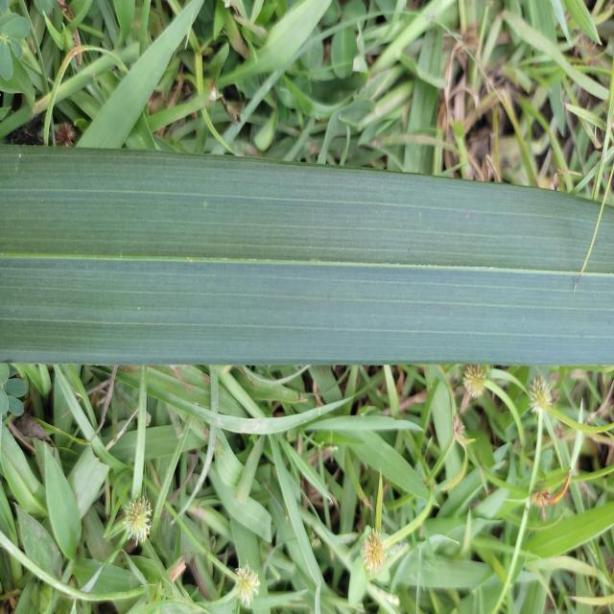Healthy: (0, 140, 614, 368)
